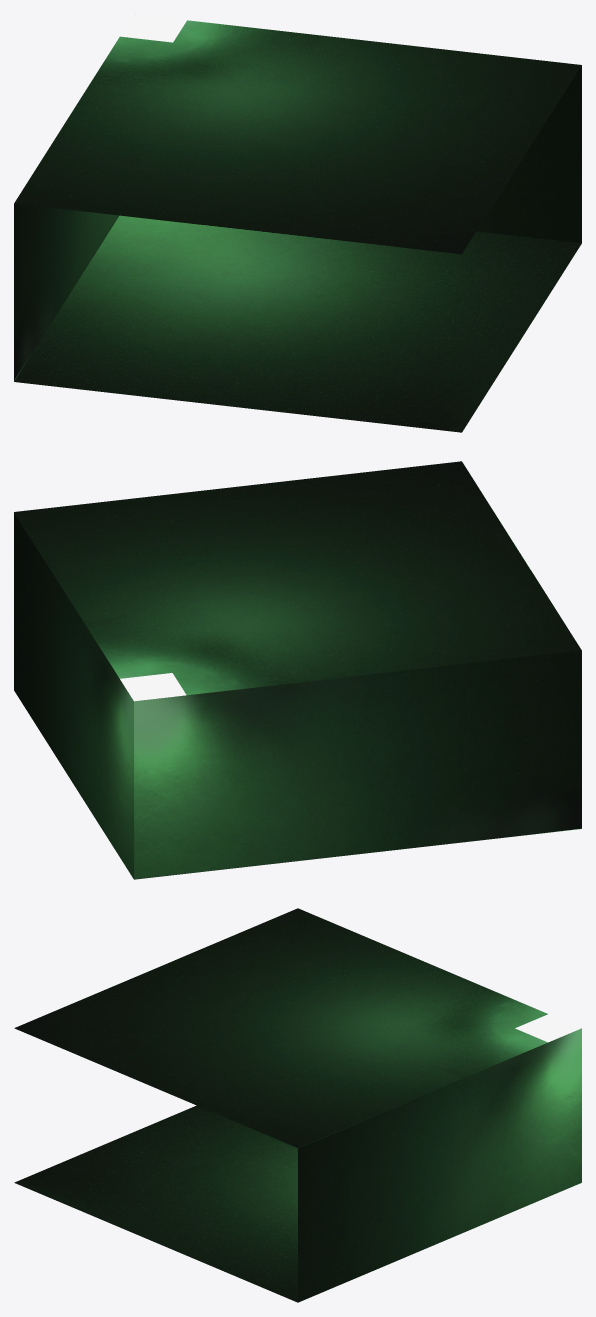
Rendered from otsuka_kv_export.glb.
The picture shows the model from 3 angles, top to bottom: view 1: azimuth 30°, elevation 25°; view 2: azimuth 150°, elevation 25°; view 3: azimuth 270°, elevation 25°; orthographic projection. The views are drawn at different scales.
Visible parts, largest first — view 1: Cube; view 2: Cube; view 3: Cube.
Part boxes in pixels (<box>): Cube: <box>14,14,581,432</box>; Cube: <box>14,461,581,879</box>; Cube: <box>14,908,581,1302</box>.
Bounding box in the file's own units: 0.9946 × 0.2984 × 0.9946.
Materials: 2 (1 with a texture image).
